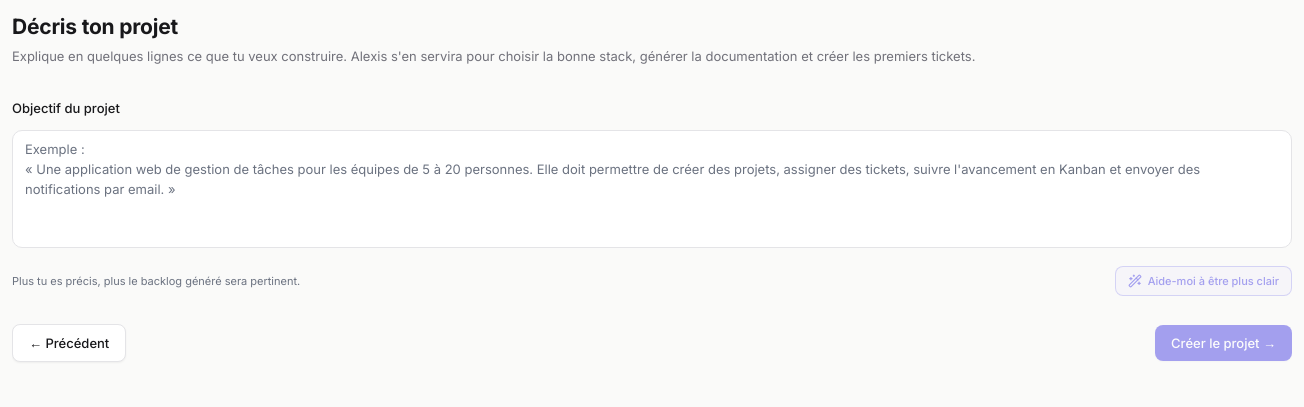
Test: DescriptionPage — bouton Aide-moi à être plus clair › ne modifie pas le textarea si refineBrief échoue
Step 1. Replace the text in the text box with "mon idée initiale" → (652, 189), box left=12, top=130, right=1292, bottom=248
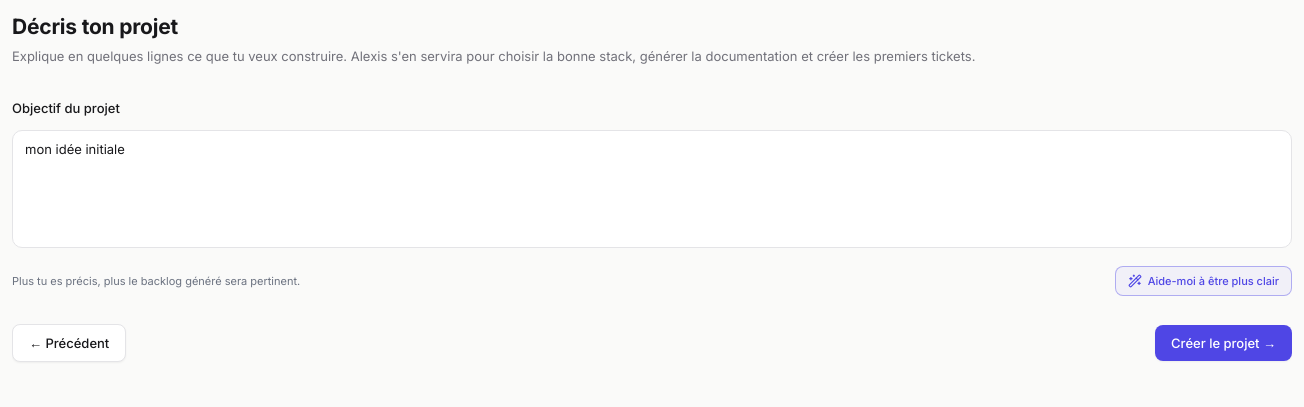
Step 2. Click the button "Aide-moi à être plus clair" → click(1203, 281), box left=1115, top=266, right=1292, bottom=296
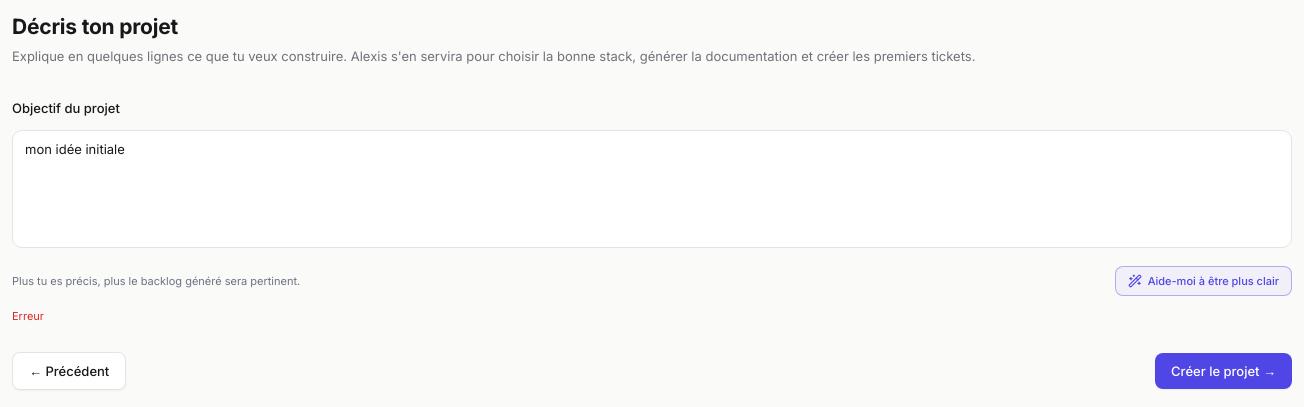
Now the text "Erreur" is shown, box left=12, top=309, right=44, bottom=323
